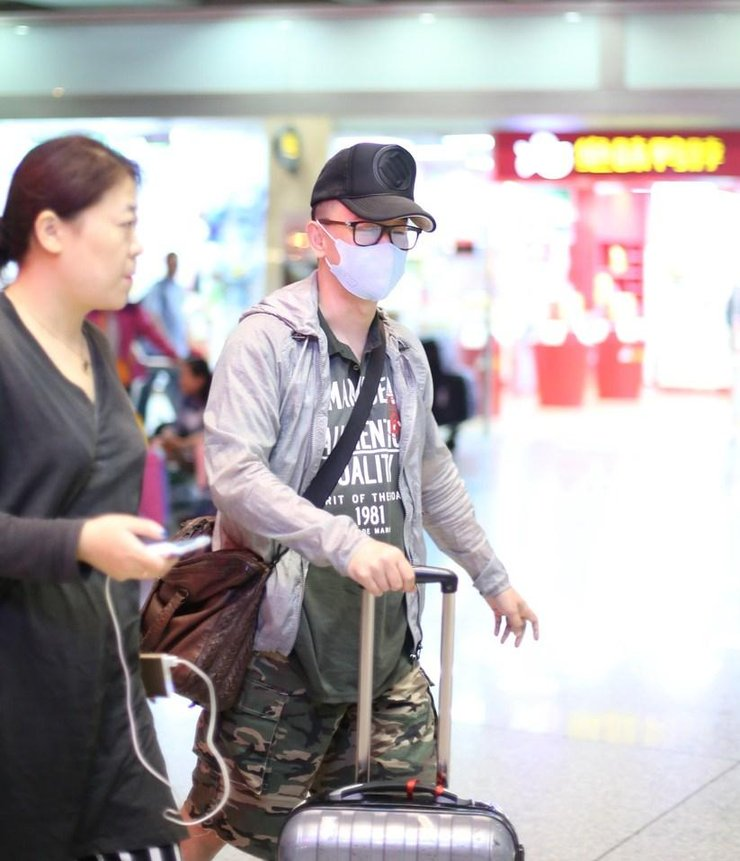face: (64, 180, 142, 309)
face_mask: (327, 190, 407, 299)
